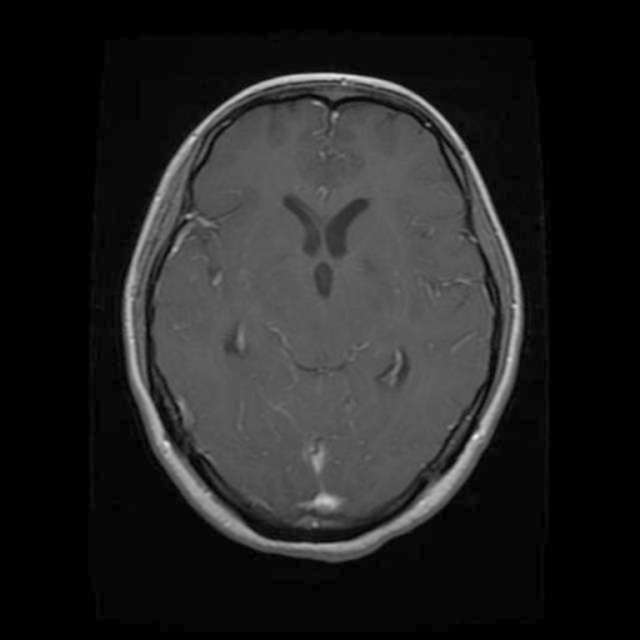pituitary tumor: (302, 444, 356, 510)
